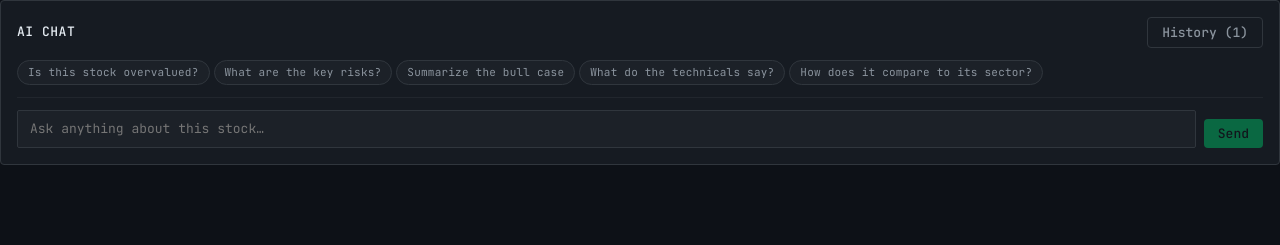
it: AIChatPanel — multi-turn & session management › clicking History reveals saved session titles
This screenshot has width=1280, height=245.
Click the button with aria-label "toggle chat history" at [1205, 32], box [1147,17,1263,48]
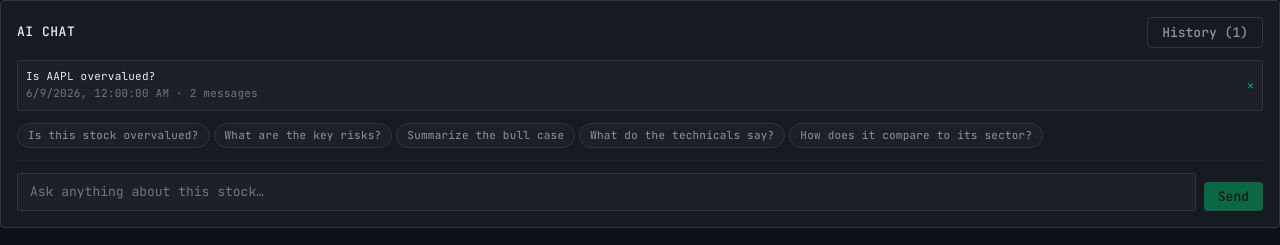
Expected: the text "Is AAPL overvalued?" is shown, [26,69,156,83]
